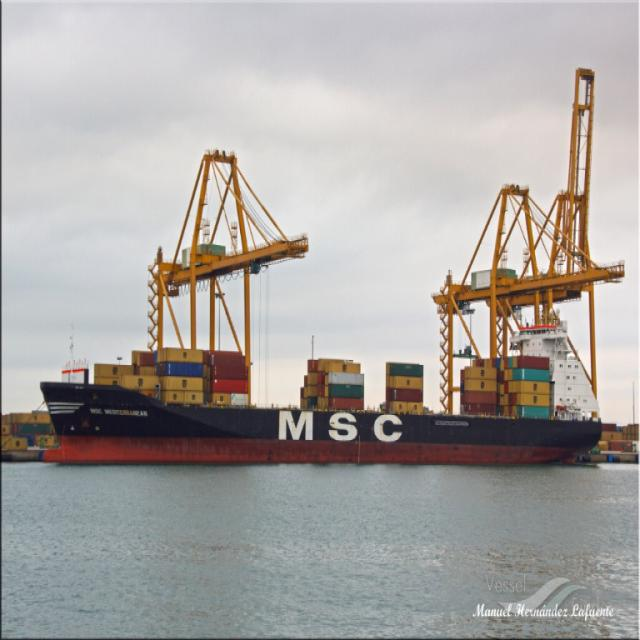Container Ship: (40, 282, 602, 465)
